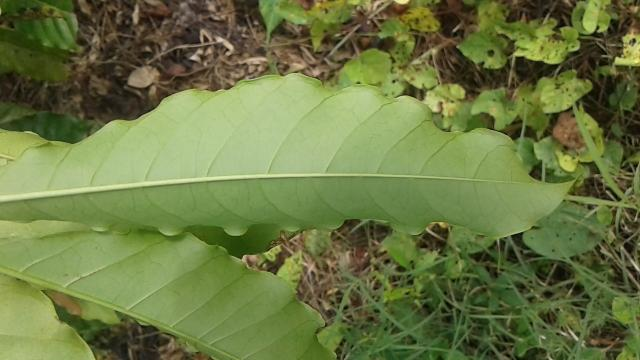healthy: (0, 64, 590, 240)
